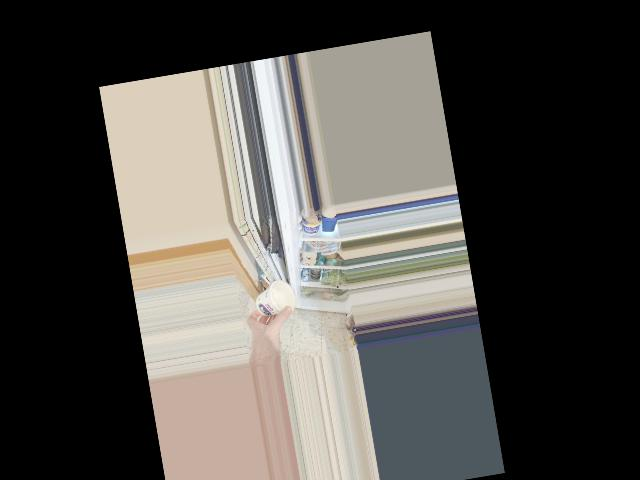cotage: (252, 280, 294, 319)
